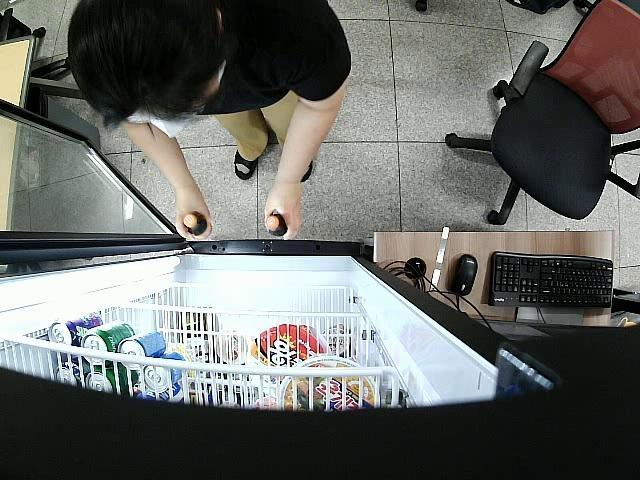17_vita500: (182, 212, 213, 241), (264, 212, 288, 236)
